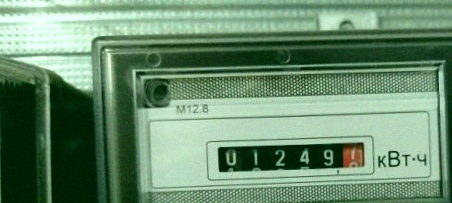0: (224, 146, 237, 167)
1: (249, 147, 259, 166)
2: (273, 147, 286, 167)
4: (298, 146, 309, 165)
7: (346, 142, 358, 161)
9: (321, 146, 334, 168)
screen: (198, 133, 373, 180)
